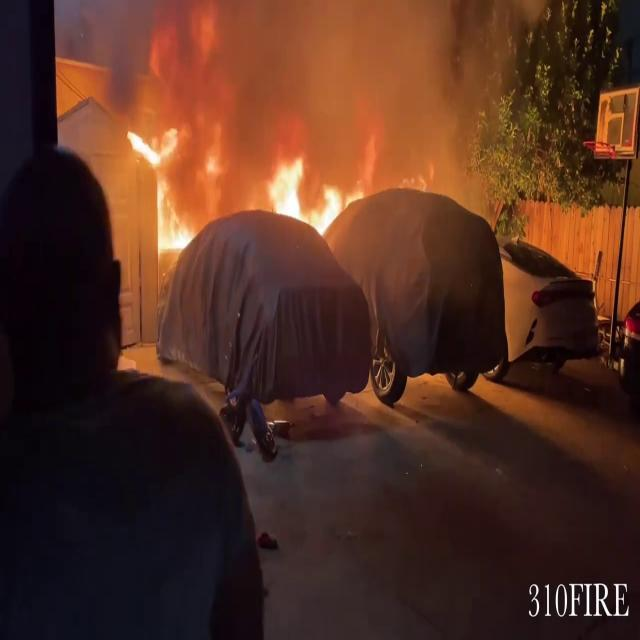Fire: (128, 114, 196, 264), (262, 150, 363, 245)
Smoke: (153, 0, 516, 292)
